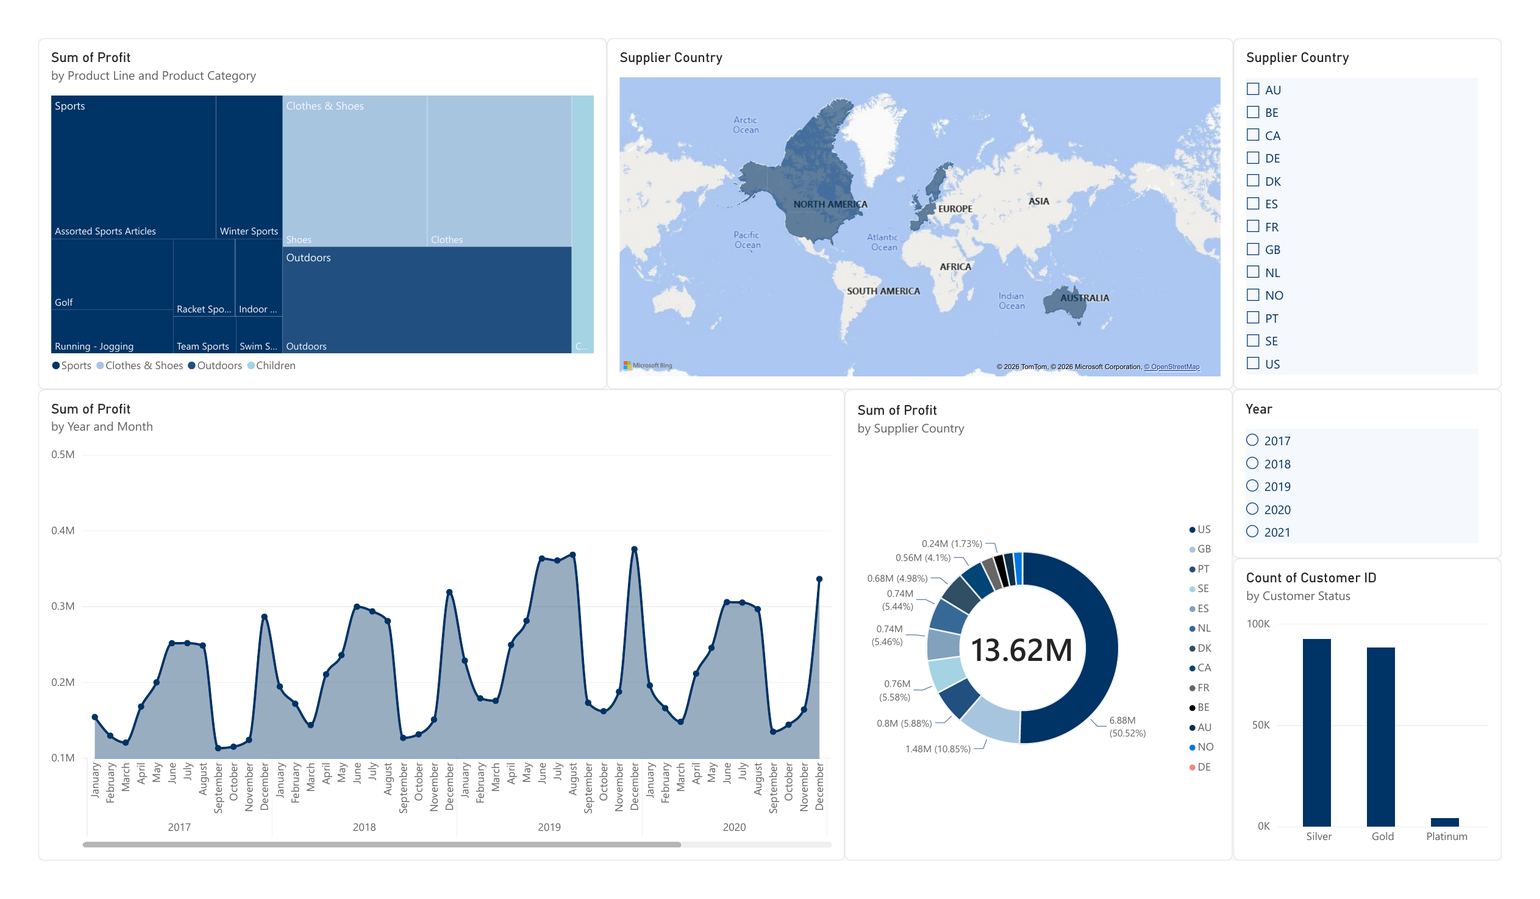

The page's visual inventory and layout, read from the dashboard file:
{"tool":"powerbi","page":{"name":"Page 1","canvas":[1920,1080],"ordinal":0},"visuals":[{"type":"stackedAreaChart","fields":{"Category":["public cleaned_orders_product_data.Date Order was placed.Variation.Date Hierarchy.Year","public cleaned_orders_product_data.Date Order was placed.Variation.Date Hierarchy.Month"],"Y":["Sum(public cleaned_orders_product_data.Profit)"]},"box":[0,461,1057.8,618.6],"z":0},{"type":"treemap","fields":{"Details":["public cleaned_orders_product_data.Product Category"],"Group":["public cleaned_orders_product_data.Product Line"],"Values":["Sum(public cleaned_orders_product_data.Profit)"]},"box":[0,0,745.5,461],"z":1000},{"type":"filledMap","fields":{"Category":["public cleaned_orders_product_data.Supplier Country"]},"box":[745.5,0,822.9,461],"z":2000},{"type":"listSlicer","fields":{"Values":["public cleaned_orders_product_data.Supplier Country"]},"box":[1568.4,0,351.6,461],"z":3000},{"type":"listSlicer","fields":{"Values":["public cleaned_orders_product_data.Date Order was placed.Variation.Date Hierarchy.Year"]},"box":[1566.9,461,353.1,221.8],"z":4000},{"type":"columnChart","fields":{"Category":["public cleaned_orders_product_data.Customer Status"],"Y":["CountNonNull(public cleaned_orders_product_data.Customer ID)"]},"box":[1568.4,682.8,351.6,396.8],"z":5000},{"type":"donutChart","fields":{"Category":["public cleaned_orders_product_data.Supplier Country"],"Y":["Sum(public cleaned_orders_product_data.Profit)"]},"box":[1058,461,509,619],"z":6000}]}

Visuals, with their boxes on the page's 1920x1080 design canvas (x1, y1, x2, y2). These are canvas units, not pixel positions in the 1540x899 screenshot, which may show the page scaled, cropped or inside an application window:
stackedAreaChart - public cleaned_orders_product_data.Date Order was placed.Variation.Date Hierarchy.Year x public cleaned_orders_product_data.Date Order was placed.Variation.Date Hierarchy.Month: [x1=0, y1=461, x2=1058, y2=1080]
treemap - public cleaned_orders_product_data.Product Category x public cleaned_orders_product_data.Product Line: [x1=0, y1=0, x2=746, y2=461]
filledMap - public cleaned_orders_product_data.Supplier Country: [x1=746, y1=0, x2=1568, y2=461]
listSlicer - public cleaned_orders_product_data.Supplier Country: [x1=1568, y1=0, x2=1920, y2=461]
listSlicer - public cleaned_orders_product_data.Date Order was placed.Variation.Date Hierarchy.Year: [x1=1567, y1=461, x2=1920, y2=683]
columnChart - public cleaned_orders_product_data.Customer Status x CountNonNull(public cleaned_orders_product_data.Customer ID): [x1=1568, y1=683, x2=1920, y2=1080]
donutChart - public cleaned_orders_product_data.Supplier Country x Sum(public cleaned_orders_product_data.Profit): [x1=1058, y1=461, x2=1567, y2=1080]
